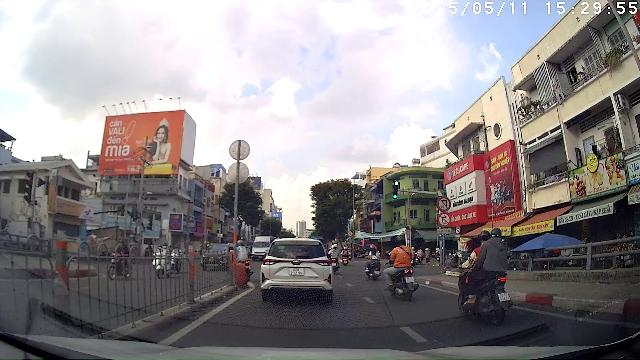103b-cam-oto-re-phai: (437, 212, 451, 227)
103c-cam-oto-re-trai: (436, 196, 452, 212)
